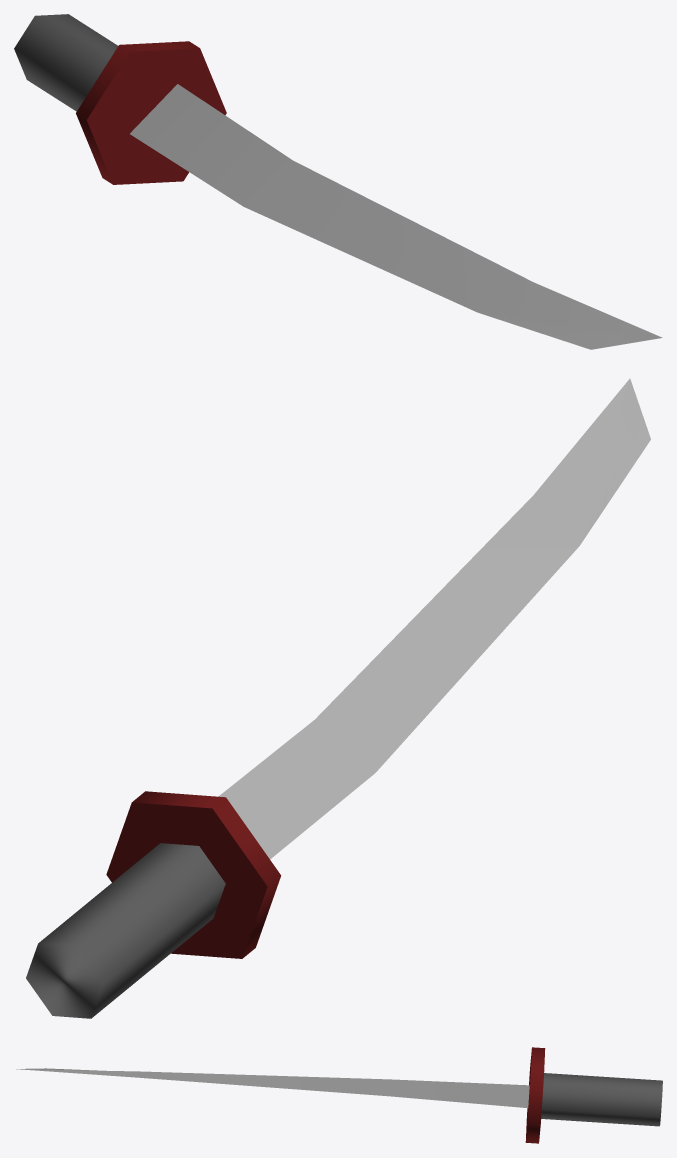
File: tanto.fbx
The picture shows the model from 3 angles, top to bottom: view 1: azimuth 30°, elevation 25°; view 2: azimuth 150°, elevation 25°; view 3: azimuth 270°, elevation 25°; orthographic projection. The views are drawn at different scales.
Visible parts, largest first — view 1: tanto_R_inhand1; view 2: tanto_R_inhand1; view 3: tanto_R_inhand1.
Part boxes in pixels (x1=…): tanto_R_inhand1: x1=14, y1=14, x2=662, y2=349; tanto_R_inhand1: x1=26, y1=378, x2=650, y2=1018; tanto_R_inhand1: x1=16, y1=1047, x2=662, y2=1143.
Size of the model in its own units: 11.86 by 11.98 by 79.71.
